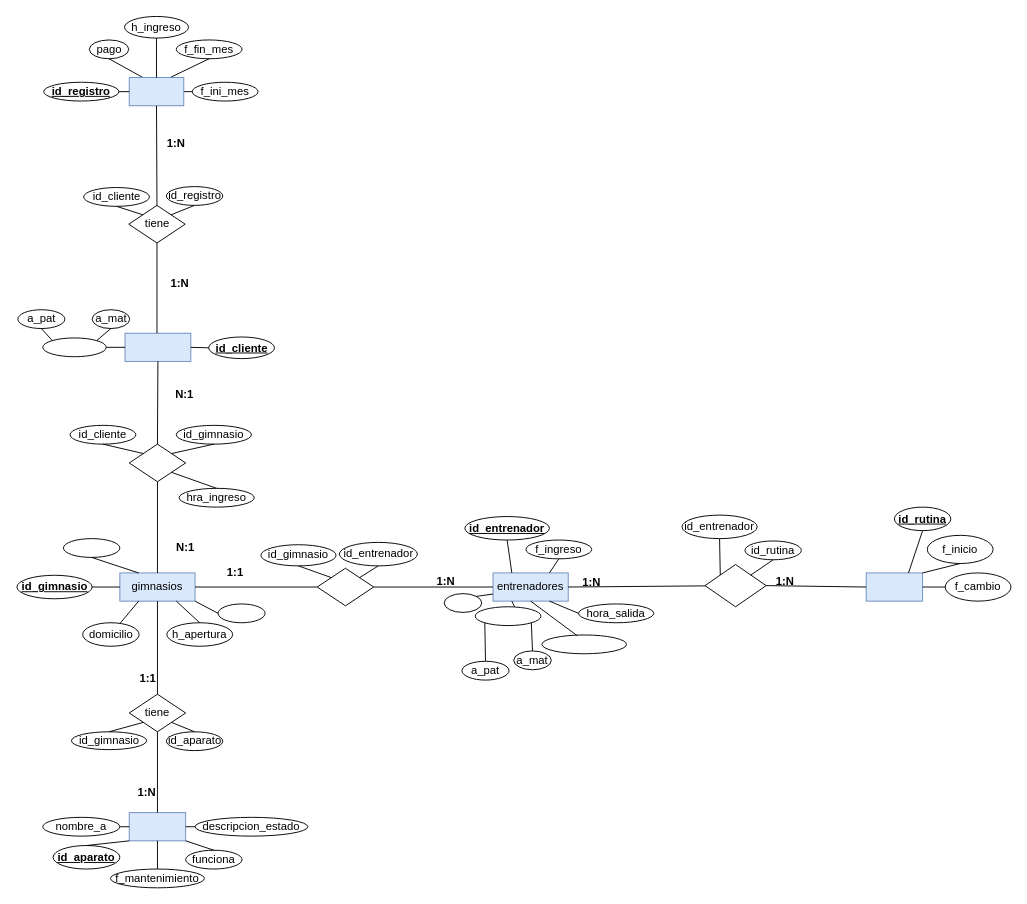
Some shapes in this 1027 by 904 pixel diagram are drawn without their labels. The box of each missing label's shape, as (x1, y1, x2, y2) in pixels:
aparatos: (128, 812, 186, 841)
asiste: (128, 443, 186, 482)
clientes: (124, 332, 191, 361)
emplea: (316, 567, 374, 606)
h_cierre: (217, 603, 265, 623)
hora_entrada: (541, 634, 627, 654)
imparte: (704, 564, 766, 607)
nombre_c: (42, 337, 106, 357)
nombre_e: (474, 606, 541, 626)
registros: (128, 77, 184, 106)
rutinas: (865, 572, 923, 601)
salario: (443, 593, 482, 612)
sucursal: (63, 538, 120, 557)
